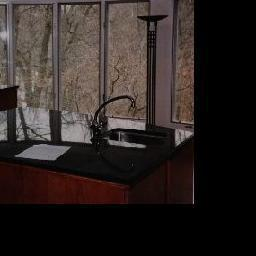Lavaplatos: (85, 92, 171, 154)
